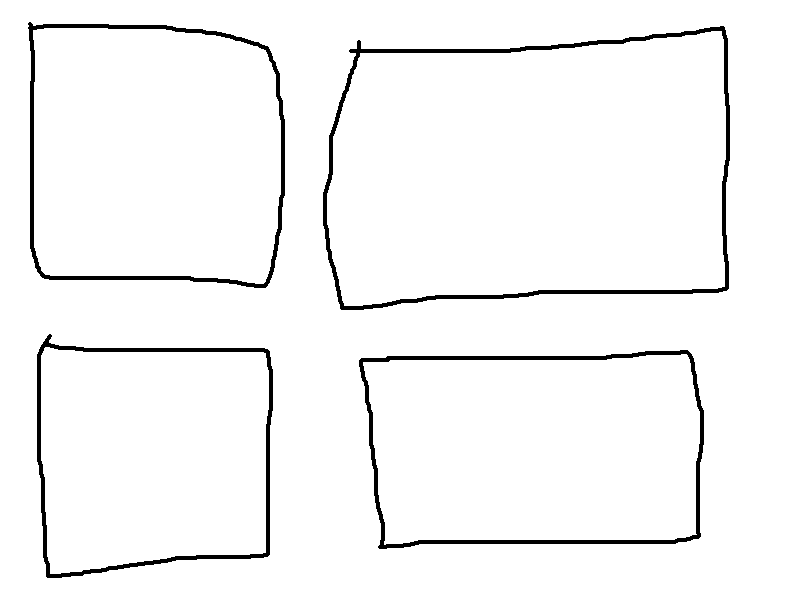rect: (316, 21, 739, 313), (351, 345, 706, 558), (22, 14, 290, 296), (25, 330, 285, 584)
